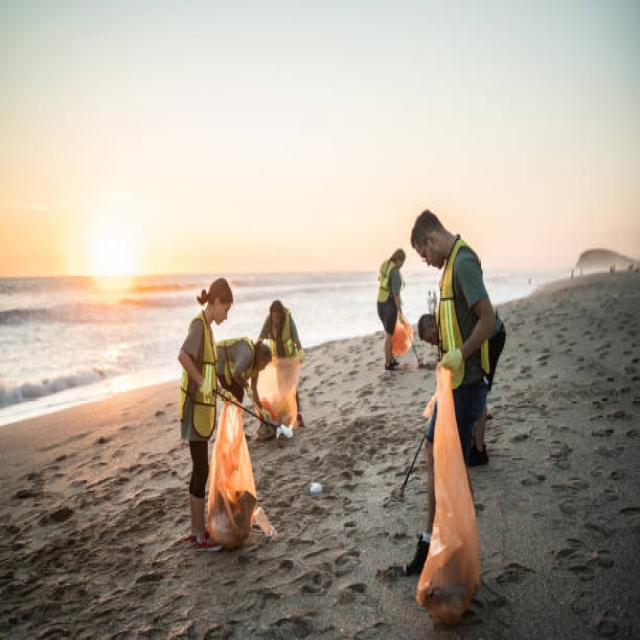plastic: (306, 478, 328, 502)
trash: (422, 357, 490, 640), (205, 388, 265, 552), (253, 353, 314, 445), (391, 309, 413, 356)
